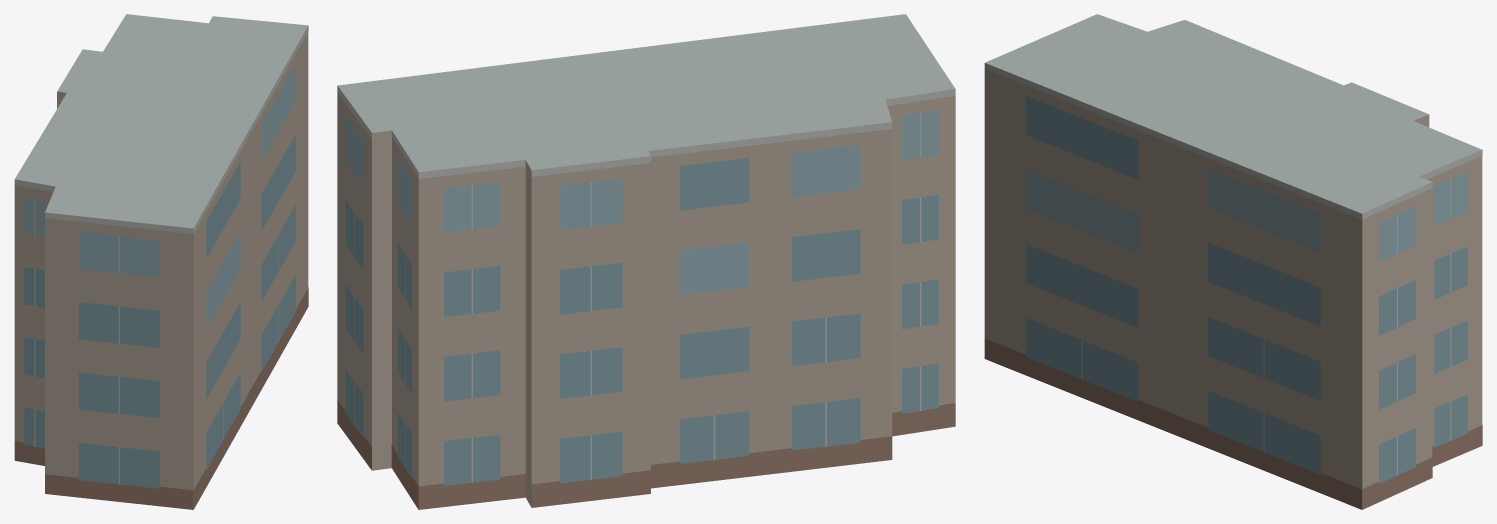
File: survey-upis-32682436.glb
The picture shows the model from 3 angles, left to right: view 1: azimuth 30°, elevation 25°; view 2: azimuth 150°, elevation 25°; view 3: azimuth 270°, elevation 25°; orthographic projection. The views are drawn at different scales.
Parts seen in each view (by area): view 1: survey-upis-32682436.tmp; view 2: survey-upis-32682436.tmp; view 3: survey-upis-32682436.tmp.
Part boxes in pixels (x1=…): survey-upis-32682436.tmp: x1=14, y1=14, x2=308, y2=509; survey-upis-32682436.tmp: x1=337, y1=14, x2=955, y2=509; survey-upis-32682436.tmp: x1=984, y1=14, x2=1482, y2=509.
Size of the model in its own units: 17.67 by 12.2 by 18.6.
